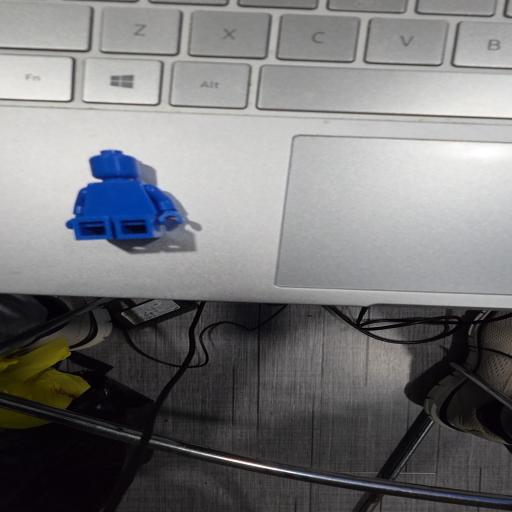Blue: (66, 150, 183, 240)
